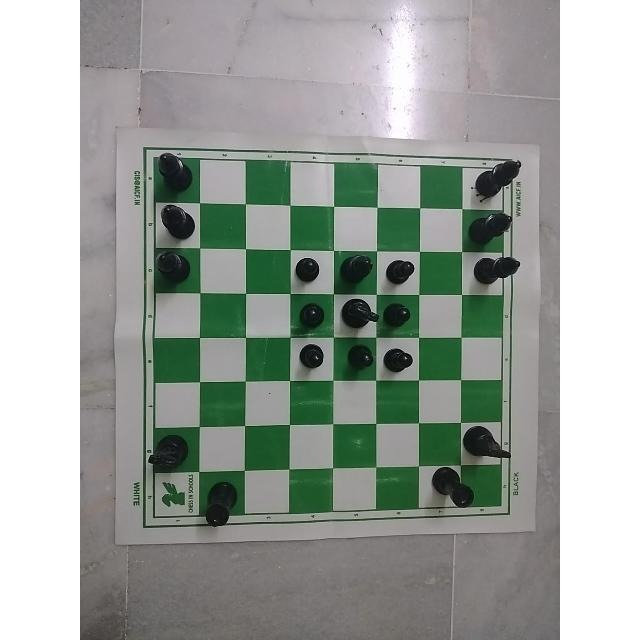black-bishop: (468, 153, 528, 205), (464, 210, 528, 253), (466, 256, 532, 289), (150, 144, 194, 192), (150, 245, 198, 289), (332, 248, 376, 291), (153, 199, 195, 239)
black-knight: (460, 419, 515, 465), (144, 431, 195, 477), (336, 295, 381, 337)
black-pawn: (286, 249, 329, 299), (383, 340, 424, 380), (377, 246, 415, 288), (295, 338, 333, 379), (384, 294, 420, 332), (292, 296, 331, 331), (341, 341, 376, 380)
black-rook: (196, 474, 256, 529), (426, 466, 476, 512)
